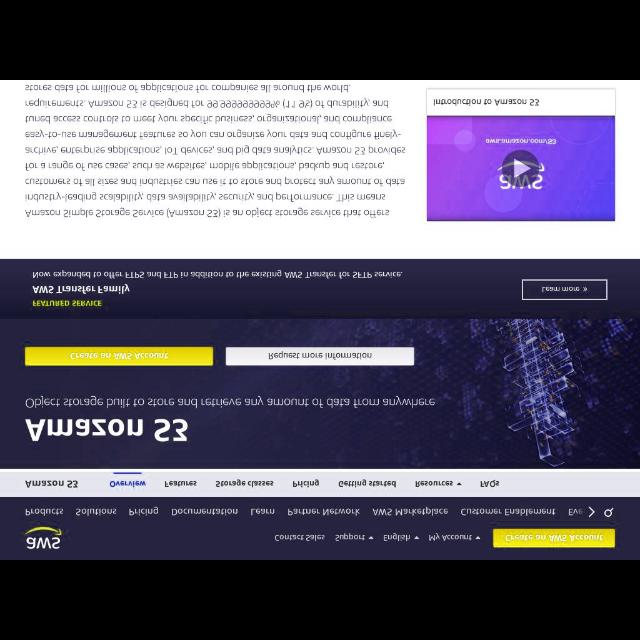backgroundimage: (2, 260, 640, 470)
icon: (514, 156, 528, 176), (584, 503, 598, 517), (602, 504, 614, 518), (580, 282, 590, 294), (474, 530, 482, 542), (412, 530, 421, 540), (368, 530, 374, 542), (456, 482, 462, 486)
image: (428, 115, 614, 221), (20, 522, 64, 554)
multitab: (2, 472, 640, 494)
spinner: (428, 527, 482, 545), (410, 478, 464, 492), (332, 530, 374, 544), (381, 530, 422, 542)
switch: (502, 150, 540, 186)
text: (22, 82, 408, 218), (21, 393, 436, 411), (21, 414, 189, 444), (32, 270, 404, 280), (430, 95, 542, 108), (31, 282, 132, 294), (69, 349, 169, 361), (458, 506, 554, 518), (268, 350, 372, 360), (32, 296, 102, 310), (371, 505, 449, 517), (288, 505, 362, 517), (504, 534, 604, 542), (170, 506, 240, 516), (340, 478, 396, 488), (25, 479, 79, 489), (216, 480, 274, 488), (75, 507, 119, 517), (273, 534, 325, 542), (250, 504, 278, 518), (413, 479, 452, 489), (128, 505, 160, 517), (26, 507, 64, 517), (542, 284, 578, 294), (429, 533, 471, 541), (383, 530, 409, 542), (165, 479, 197, 488), (110, 480, 144, 488), (333, 534, 363, 542), (292, 480, 320, 488), (480, 479, 500, 489), (566, 507, 582, 517)
textbutton: (226, 347, 414, 367), (24, 347, 212, 365), (492, 527, 616, 549), (522, 279, 608, 299)
toolbar: (1, 494, 640, 558)
